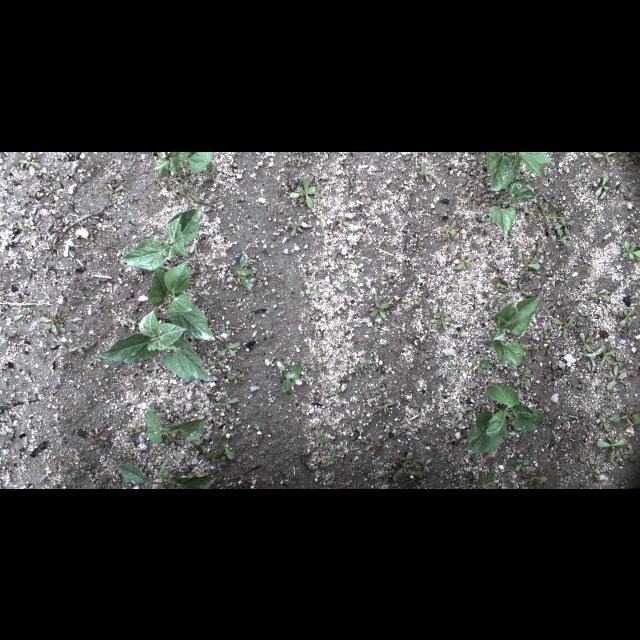crop: (96, 308, 216, 384), (466, 382, 544, 454), (147, 258, 215, 340), (122, 203, 205, 269), (489, 294, 543, 366), (118, 460, 222, 488), (486, 180, 536, 238), (486, 152, 554, 190), (145, 404, 209, 444), (154, 152, 216, 180)
weed: (576, 328, 628, 392), (508, 238, 546, 292), (286, 168, 330, 212), (534, 200, 572, 246), (594, 392, 638, 430), (386, 452, 432, 482), (596, 431, 636, 461), (230, 250, 258, 292), (274, 359, 308, 393), (208, 338, 242, 368), (202, 438, 234, 468), (21, 154, 53, 182), (552, 306, 578, 340), (362, 294, 392, 322), (37, 314, 63, 340), (212, 394, 242, 416), (468, 352, 497, 374), (428, 306, 452, 332), (614, 302, 638, 328), (476, 466, 504, 488), (592, 170, 612, 200), (492, 261, 512, 289), (526, 341, 556, 359), (285, 214, 305, 238), (67, 336, 91, 356), (620, 236, 638, 262), (416, 158, 434, 182), (12, 305, 36, 323), (328, 212, 348, 232), (374, 398, 394, 418), (454, 254, 476, 272), (198, 160, 220, 178), (225, 370, 249, 386), (86, 426, 110, 442), (74, 464, 98, 480), (588, 288, 614, 302), (339, 167, 357, 187), (363, 186, 381, 206), (440, 222, 458, 242), (80, 231, 100, 249), (516, 367, 532, 389), (591, 152, 615, 166), (314, 429, 332, 447), (468, 188, 484, 208), (590, 456, 606, 476), (179, 188, 201, 202), (486, 292, 508, 306), (379, 272, 396, 290), (300, 281, 318, 297), (102, 182, 126, 194), (160, 395, 176, 413), (532, 472, 550, 488), (348, 418, 368, 432), (322, 452, 342, 466), (512, 458, 532, 472), (367, 342, 383, 358), (25, 186, 43, 200), (292, 152, 308, 166), (80, 292, 98, 304), (574, 378, 592, 390), (354, 360, 371, 372), (444, 359, 458, 373), (127, 424, 141, 436), (128, 316, 140, 330), (412, 234, 423, 248), (329, 388, 343, 398), (454, 326, 464, 340), (259, 329, 273, 337), (371, 208, 382, 216), (90, 354, 96, 366), (402, 156, 412, 162)
